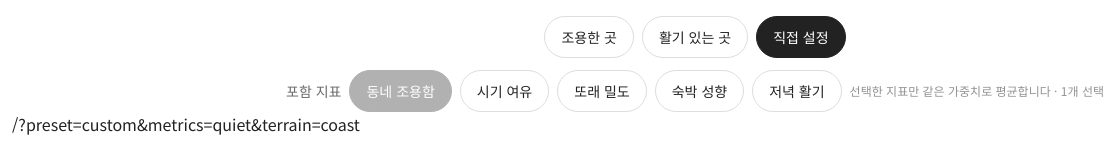
Test: MoodRow › 고른 칩을 다시 누르면 해제 (preset · metrics 삭제)
Click the button "직접 설정" at coordinates (801, 37), box left=756, top=16, right=846, bottom=58
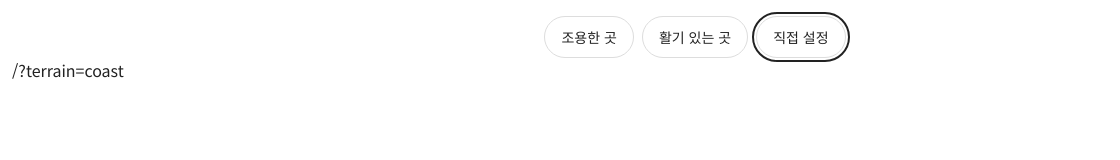
Expected: the text with test id "location" no longer shows "preset=", left=12, top=58, right=124, bottom=82
Expected: the text with test id "location" no longer shows "metrics=", left=12, top=58, right=124, bottom=82
Expected: the text "포함 지표" is gone
